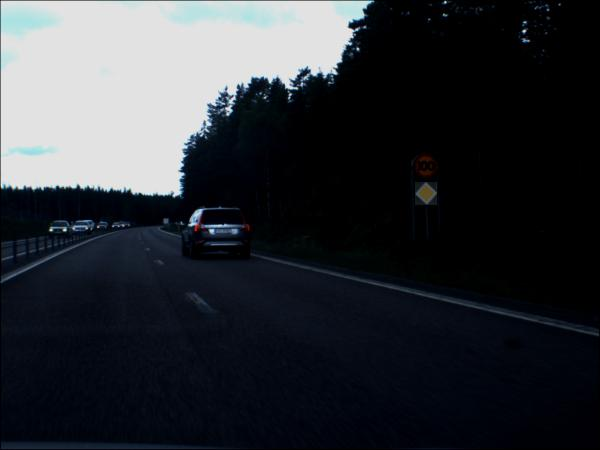100_SIGN: (414, 154, 439, 181)
PRIORITY_ROAD: (416, 183, 439, 207)
